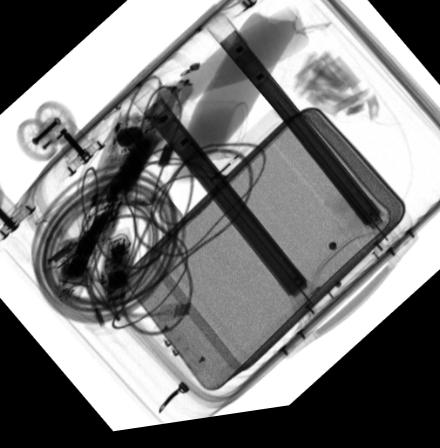Baton: (51, 137, 160, 306)
